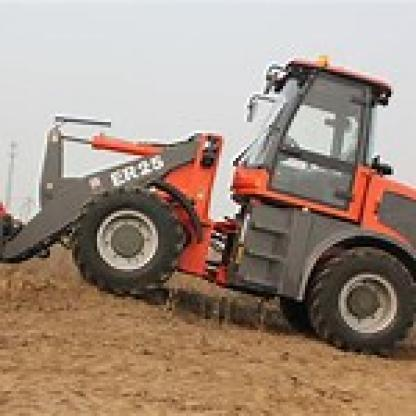bull_dozer/loader/grader: (8, 50, 402, 363)
